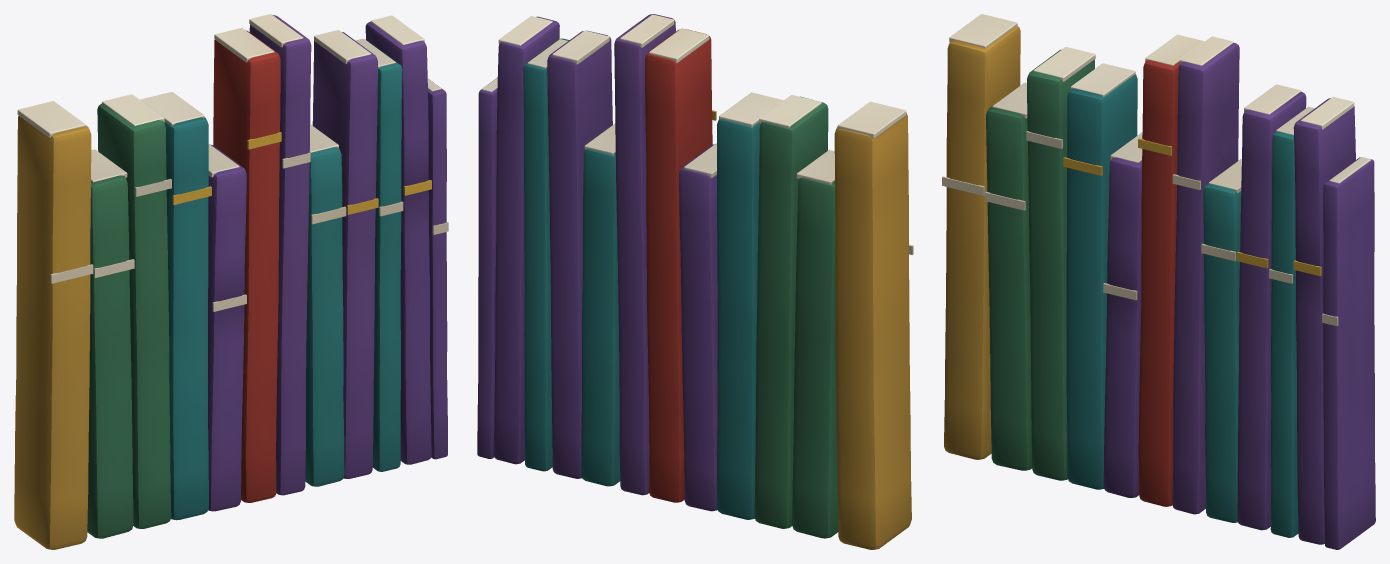
Rendered from den_book_wall.glb.
The picture shows the model from 3 angles, left to right: view 1: azimuth 30°, elevation 25°; view 2: azimuth 150°, elevation 25°; view 3: azimuth 330°, elevation 25°; orthographic projection.
Parts seen in each view (by area): view 1: den_book_wall; view 2: den_book_wall; view 3: den_book_wall.
Boxes of the visible parts, x1,y1,x2,y2 form: den_book_wall: (14,14,448,549); den_book_wall: (477,14,913,549); den_book_wall: (942,14,1375,549).
Size of the model in its own units: 24.12 by 26.01 by 4.07.
